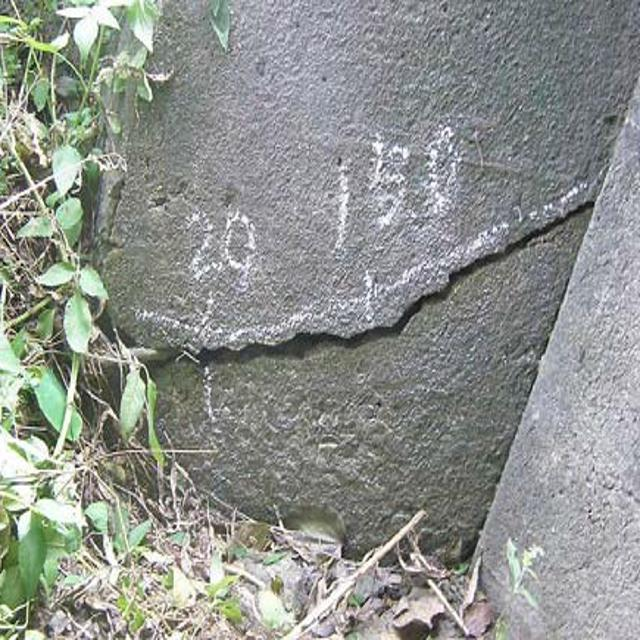crack: (126, 196, 603, 406)
